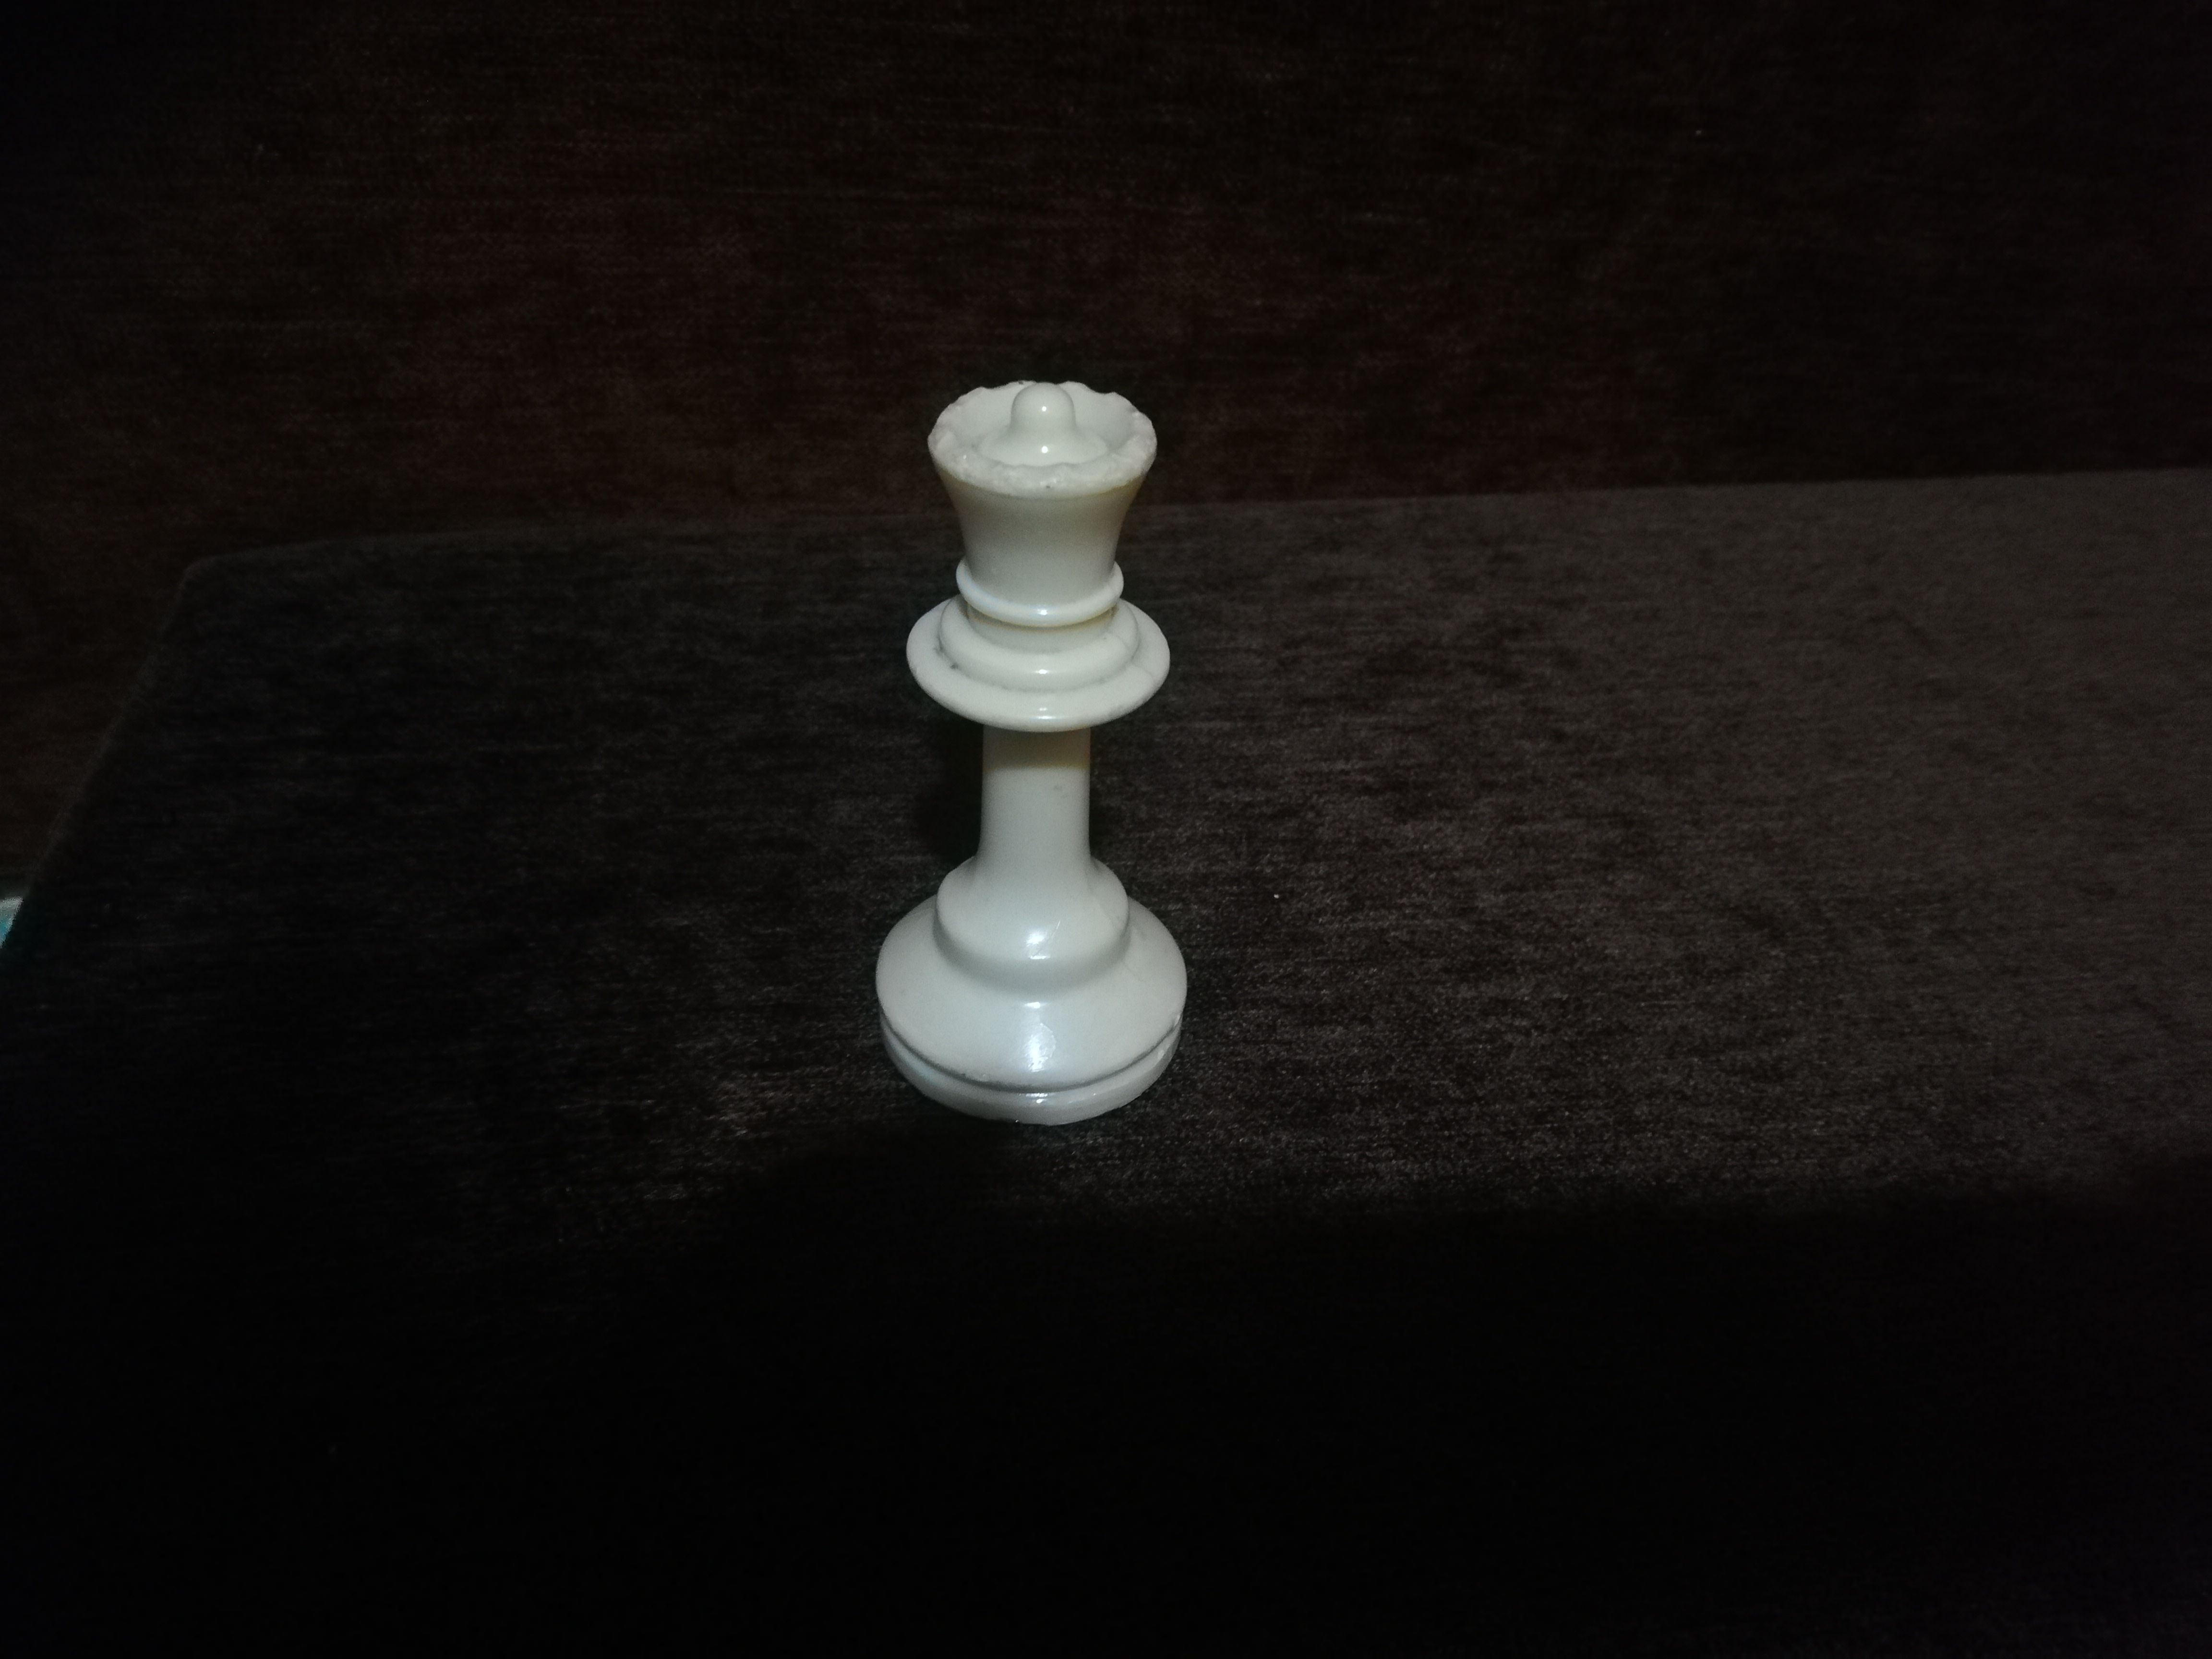Queen: (895, 369, 1222, 1119)
